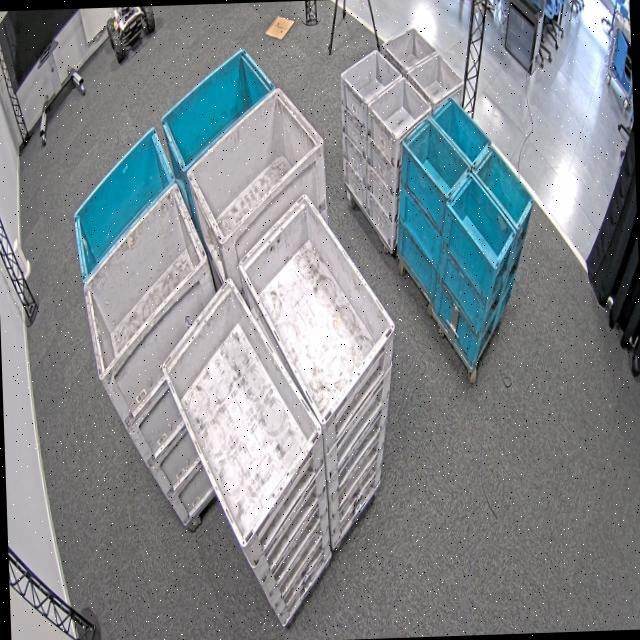Roll3G: (157, 274, 329, 556), (233, 188, 401, 432)
Roll4G: (79, 182, 210, 384), (184, 81, 328, 252)
Roll8G: (339, 46, 435, 146), (378, 22, 466, 107)
RollB4: (68, 122, 180, 284), (156, 44, 278, 178)
RollB8: (441, 142, 538, 275), (398, 94, 493, 200)
